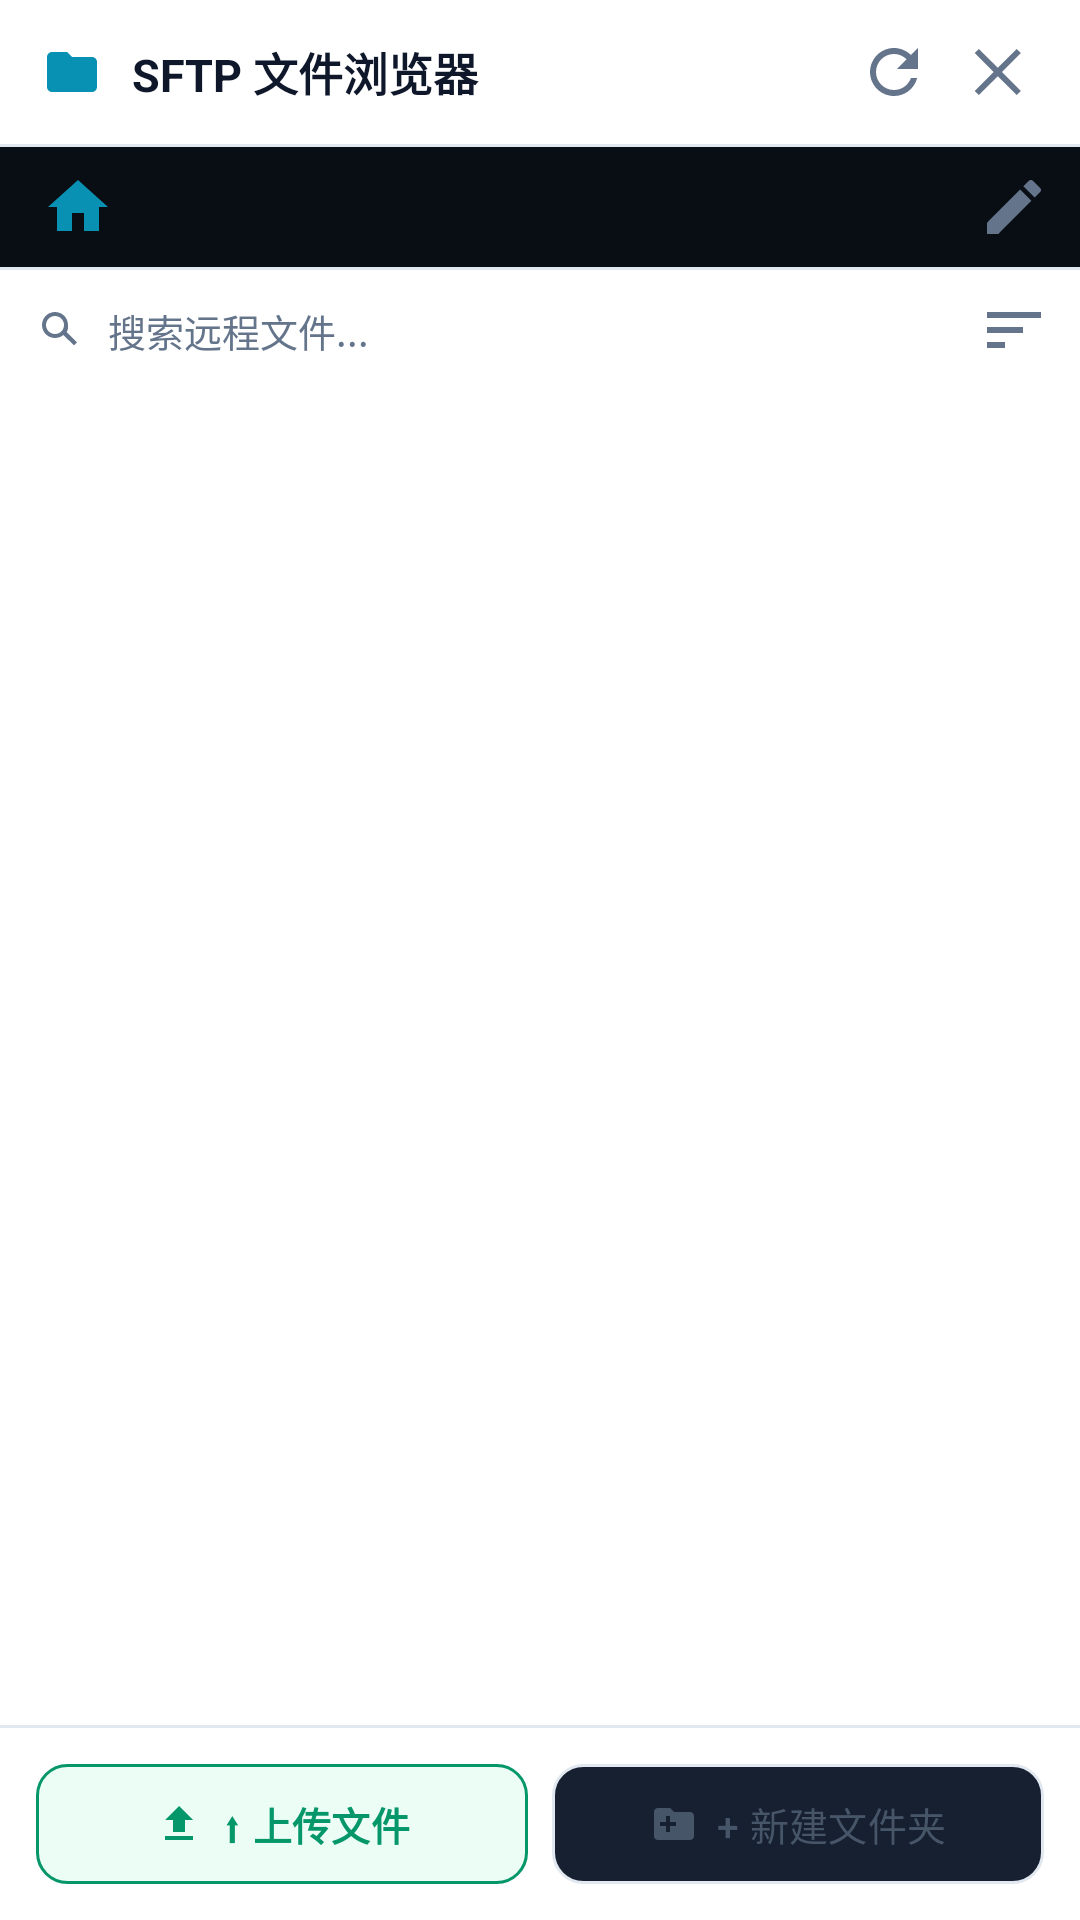

Locate icon controls on the screen. Image size 1080×1920, boxes as {"x1": x1, "y1": y1, "x2": x2, "y2": y2}.
Close: {"x1": 975, "y1": 49, "x2": 1021, "y2": 95}
file browser: {"x1": 47, "y1": 52, "x2": 97, "y2": 92}
刷新: {"x1": 870, "y1": 48, "x2": 918, "y2": 96}
排序方式: {"x1": 987, "y1": 312, "x2": 1041, "y2": 348}
根目录: {"x1": 48, "y1": 180, "x2": 108, "y2": 231}
编辑路径: {"x1": 987, "y1": 180, "x2": 1041, "y2": 234}
